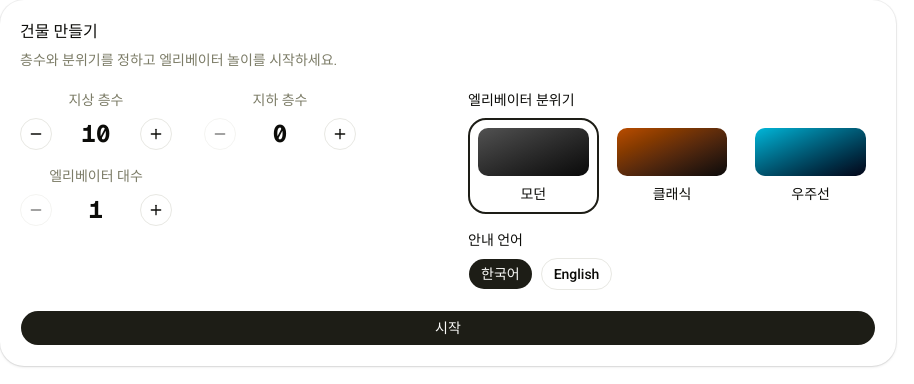
BuildingSetupScreen › 지상 층수 늘리기 버튼을 누르면 숫자가 하나 올라간다
The width and height of the screenshot is (914, 384).
Click the button named "지상 층수 늘리기" at coordinates (156, 134), box [140,118,172,150]
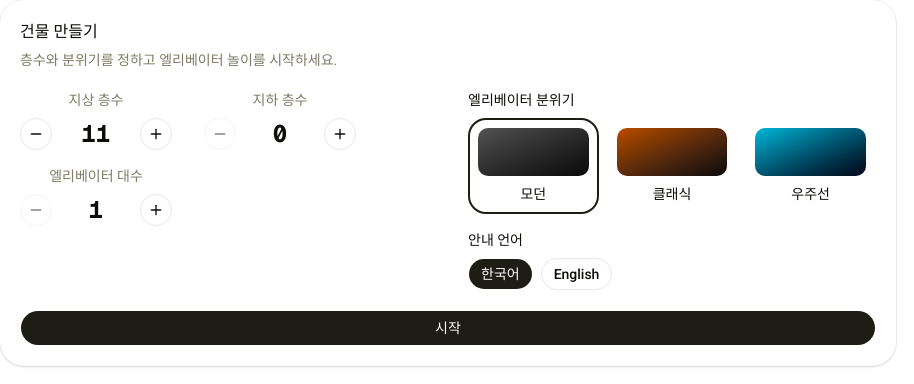
Result: the text "11" is shown at [82,118,110,149]
